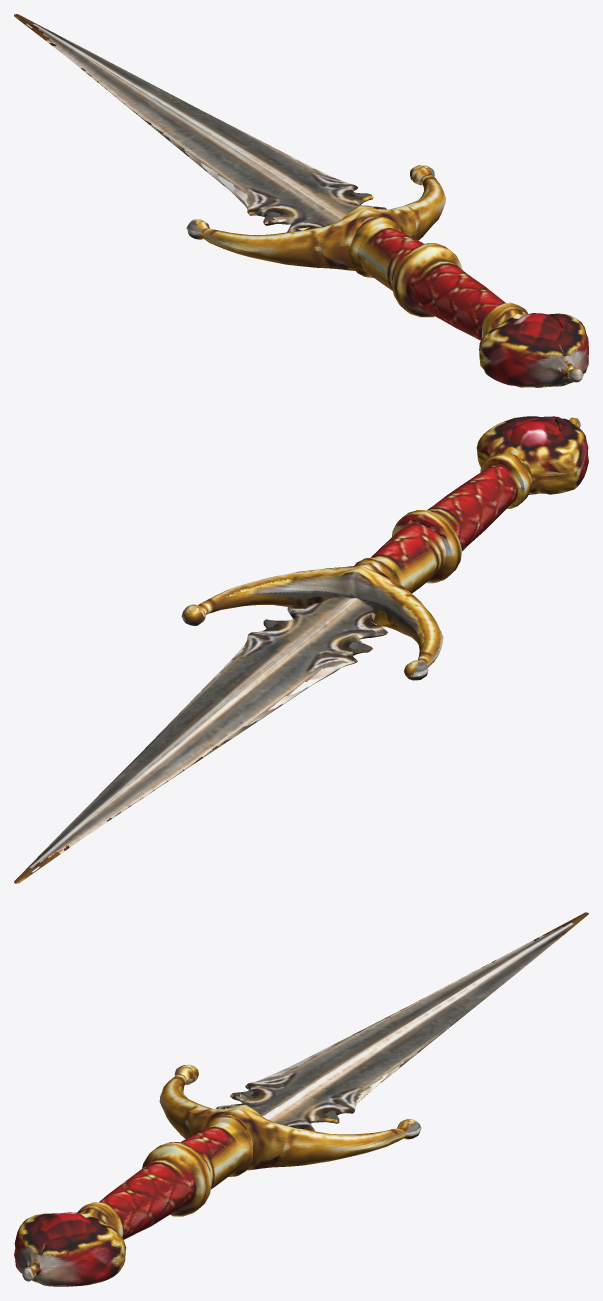
The model's file is item_6ldagger4.glb.
3 views of the same model, one above another, from view 1: azimuth 30°, elevation 25°; view 2: azimuth 150°, elevation 25°; view 3: azimuth 330°, elevation 25° (orthographic).
Parts seen in each view (by area): view 1: w02_6ldagger4; view 2: w02_6ldagger4; view 3: w02_6ldagger4.
Boxes of the visible parts, x1,y1,x2,y2 form: w02_6ldagger4: (14, 14, 588, 387); w02_6ldagger4: (14, 416, 588, 883); w02_6ldagger4: (14, 912, 588, 1286).
Bounding box in the file's own units: 0.2497 × 0.0775 × 0.999.
1 material, 1 textured.
